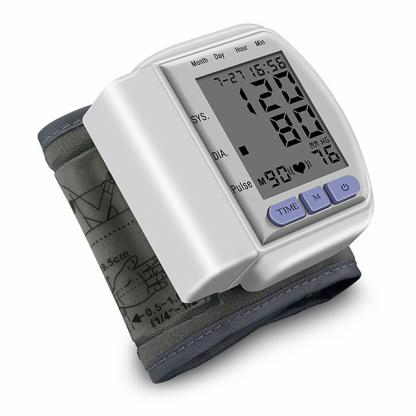Displays: (196, 50, 349, 201)
